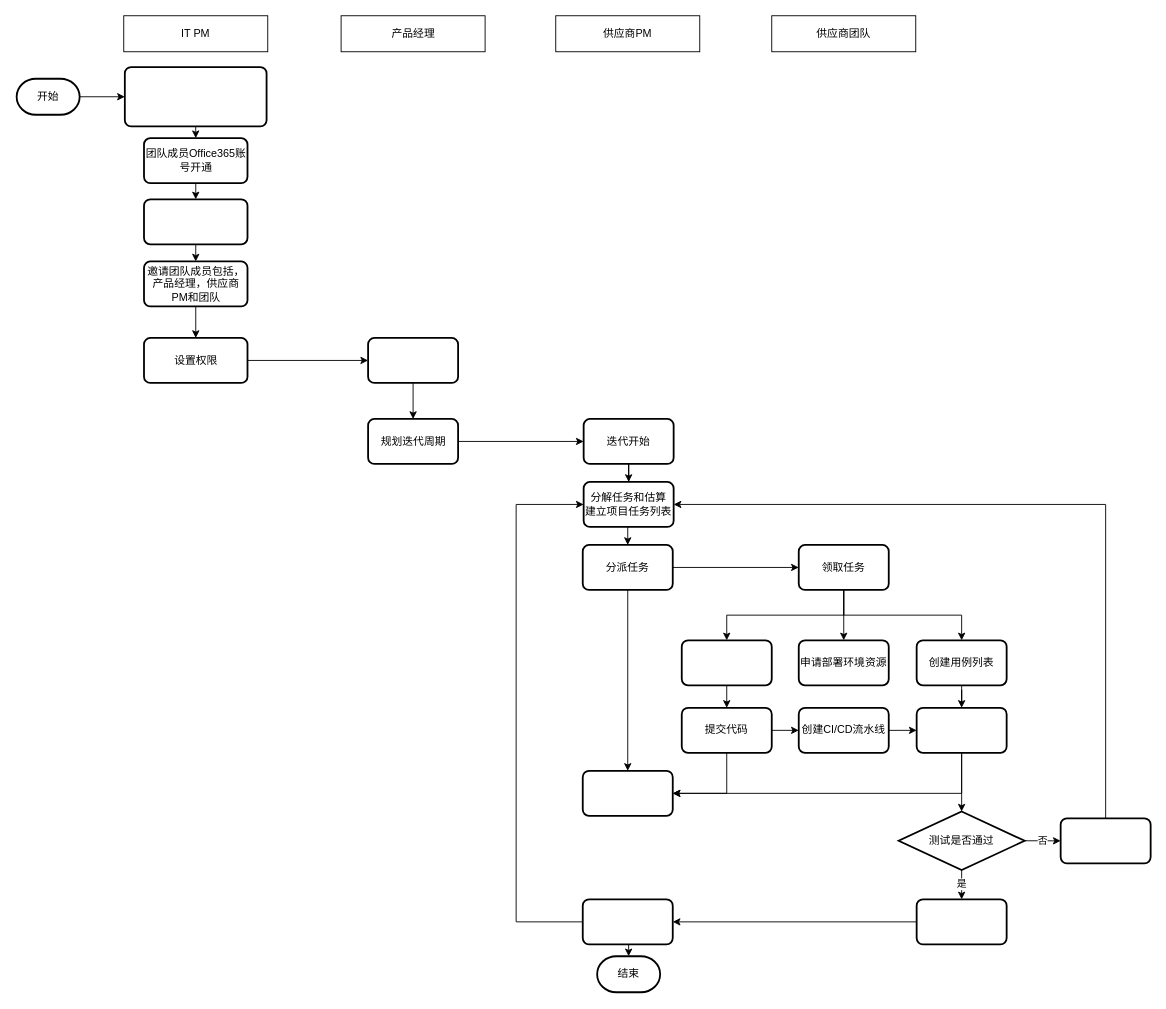
The diagram is 1166 pixels wide and 1009 high, and some of its shapes have lost their labels. The shapes that lost their labels are listed below. From the top down, each one's box as (x1, y1, x2, y2) in pixels, then its label:
(123, 66, 267, 127): 向Devops运维团队提供项目基本信息，和IT PM个人基本信息，等待项目被创建并被邀请加入项目
(143, 198, 248, 245): 团队成员Azure Devops账号开通
(367, 337, 459, 383): 录入需求 和用户故事
(680, 639, 772, 686): 编写代码
(915, 706, 1007, 753): 执行测试
(581, 770, 673, 816): 每天站立会 更新任务状态
(1059, 817, 1151, 864): 创建Bug
(581, 898, 673, 945): 创建发布交付物
(915, 898, 1007, 945): 提交测试报告
